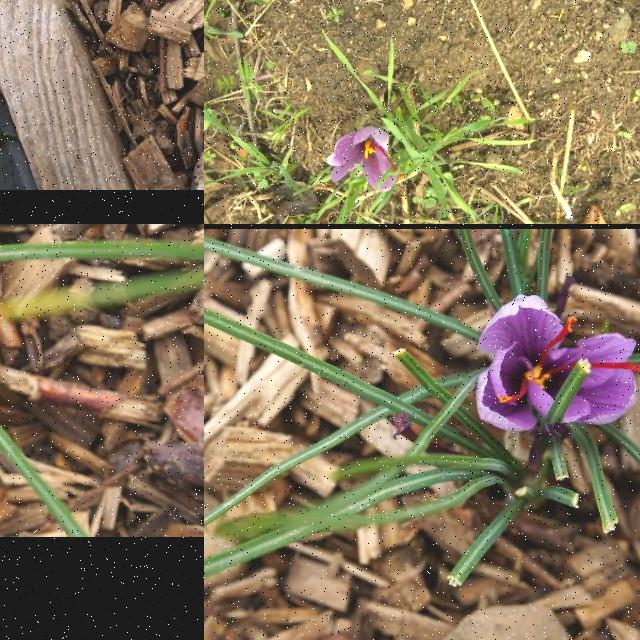flower: (478, 295, 640, 431), (328, 128, 406, 192)
